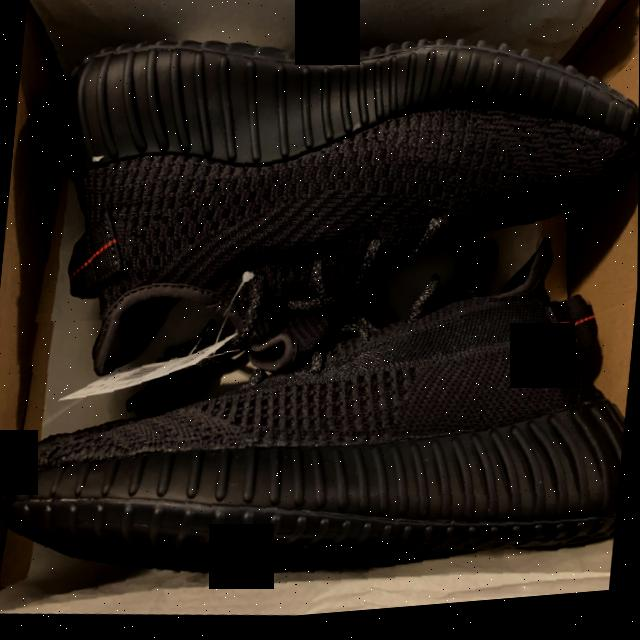shoe: (0, 231, 638, 640), (28, 0, 640, 375)
